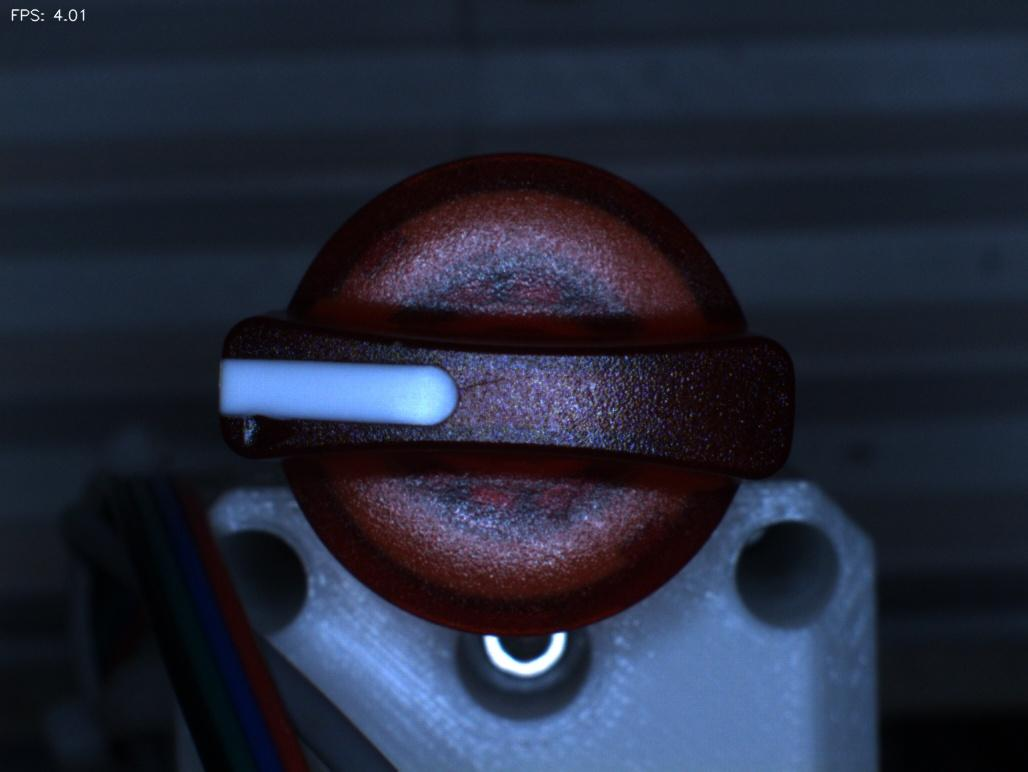Choc: (206, 392, 304, 471)
